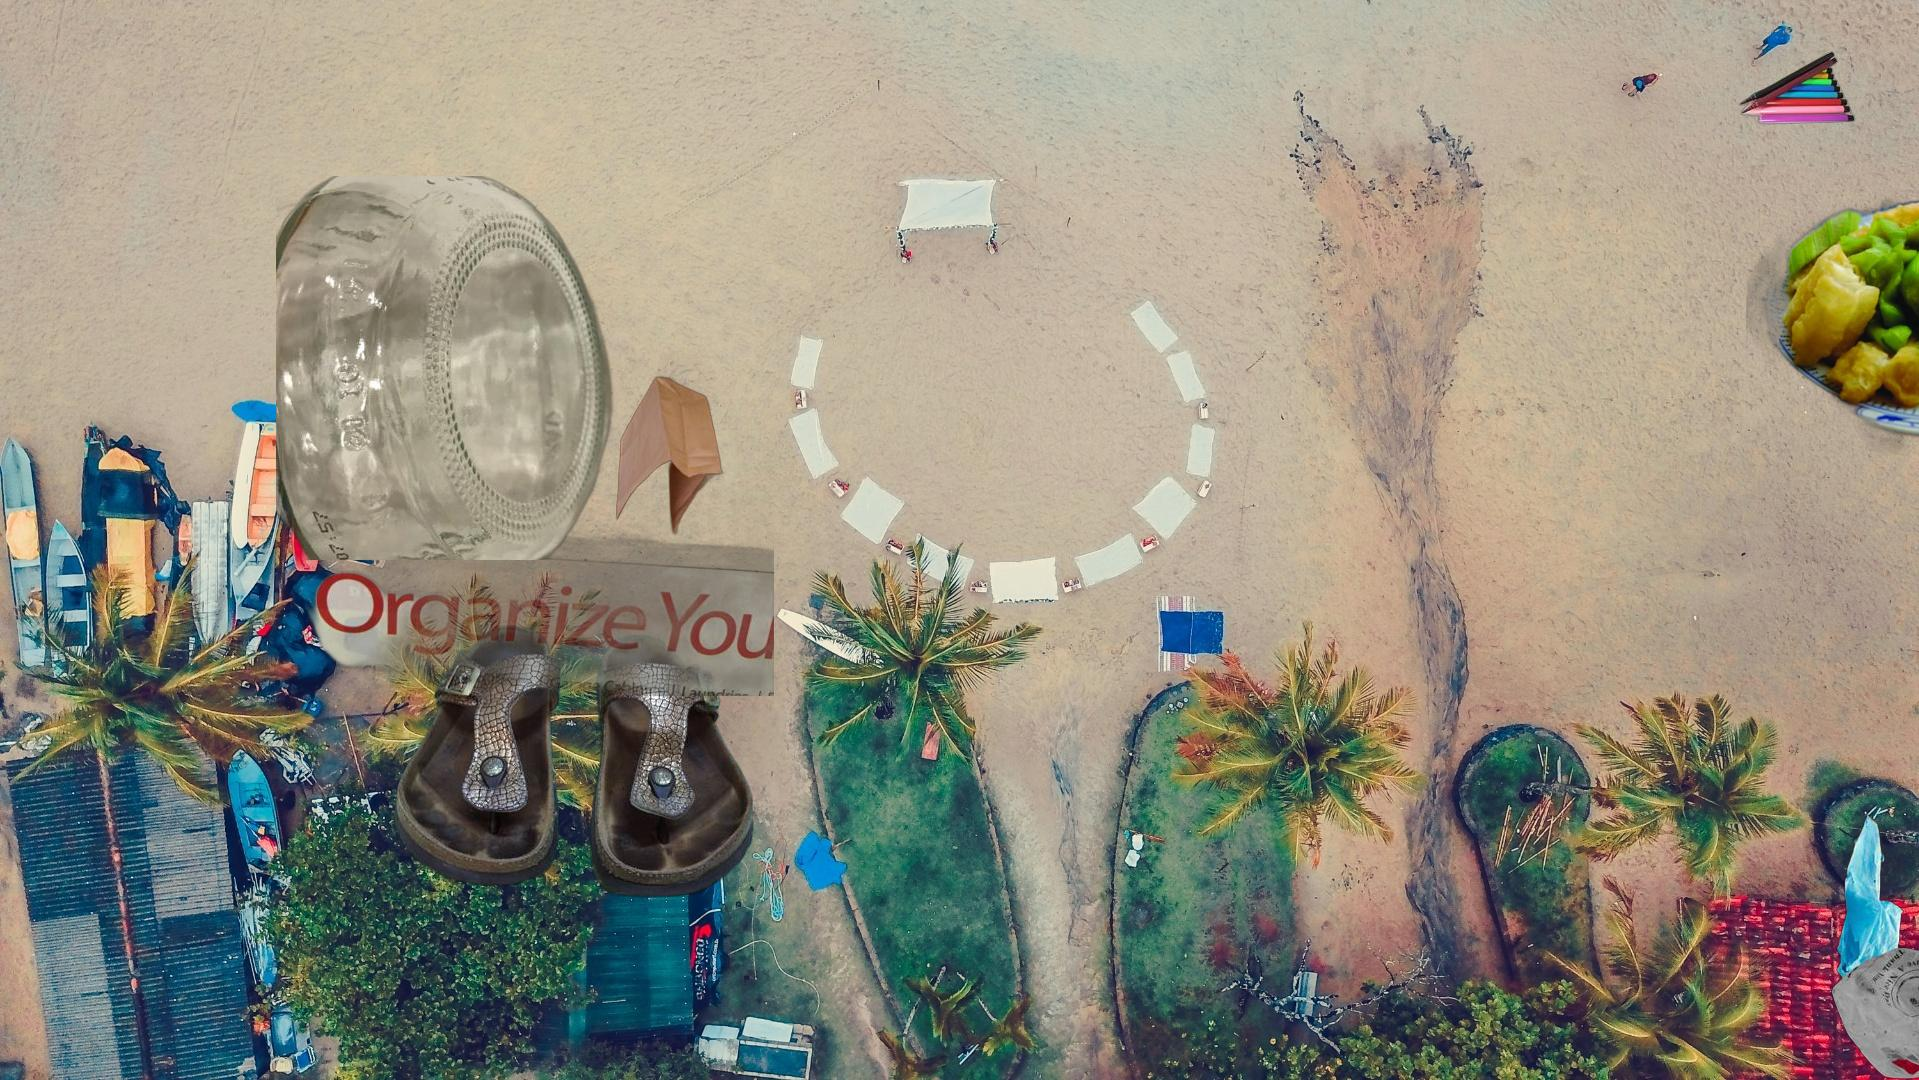biological: (1746, 108, 1919, 462)
glass: (275, 175, 618, 560)
paper: (262, 443, 774, 696)
paper-bag: (613, 375, 726, 537)
penholder: (1733, 49, 1858, 127)
plastic-bag: (1829, 812, 1919, 1080)
shoes: (391, 622, 757, 901)
